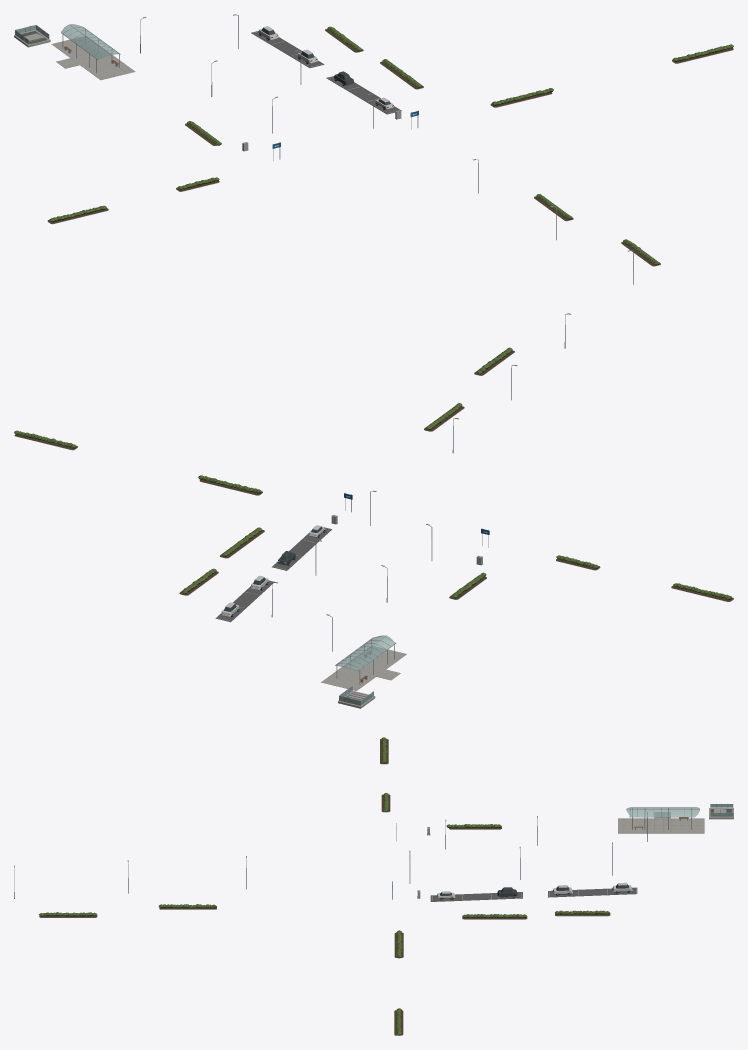
File: junction-street-furniture-photo-v1.glb
3 views of the same model, one above another, from view 1: azimuth 30°, elevation 25°; view 2: azimuth 150°, elevation 25°; view 3: azimuth 270°, elevation 25° (orthographic). The views are drawn at different scales.
Parts seen in each view (by area): view 1: 分段矮绿篱、浅石压边和土床, 弧面雨棚、座椅及浅台阶护栏, 沿街停靠带、车辆、路灯、导向牌和设备箱; view 2: 分段矮绿篱、浅石压边和土床, 弧面雨棚、座椅及浅台阶护栏, 沿街停靠带、车辆、路灯、导向牌和设备箱; view 3: 分段矮绿篱、浅石压边和土床, 弧面雨棚、座椅及浅台阶护栏, 沿街停靠带、车辆、路灯、导向牌和设备箱.
Boxes of the visible parts, x1,y1,x2,y2 form: 分段矮绿篱、浅石压边和土床: (47,26,733,266); 弧面雨棚、座椅及浅台阶护栏: (14,24,135,79); 沿街停靠带、车辆、路灯、导向牌和设备箱: (140,14,633,284); 分段矮绿篱、浅石压边和土床: (14,347,733,601); 弧面雨棚、座椅及浅台阶护栏: (321,635,406,708); 沿街停靠带、车辆、路灯、导向牌和设备箱: (215,313,570,651); 分段矮绿篱、浅石压边和土床: (39,737,610,1035); 弧面雨棚、座椅及浅台阶护栏: (618,804,733,833); 沿街停靠带、车辆、路灯、导向牌和设备箱: (14,812,647,901).
Bounding box in the file's own units: 122 × 6.06 × 125.
